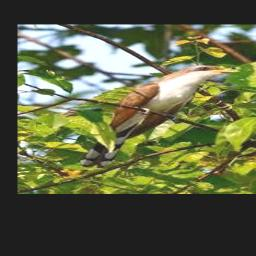Cuckoo: (80, 65, 240, 168)
